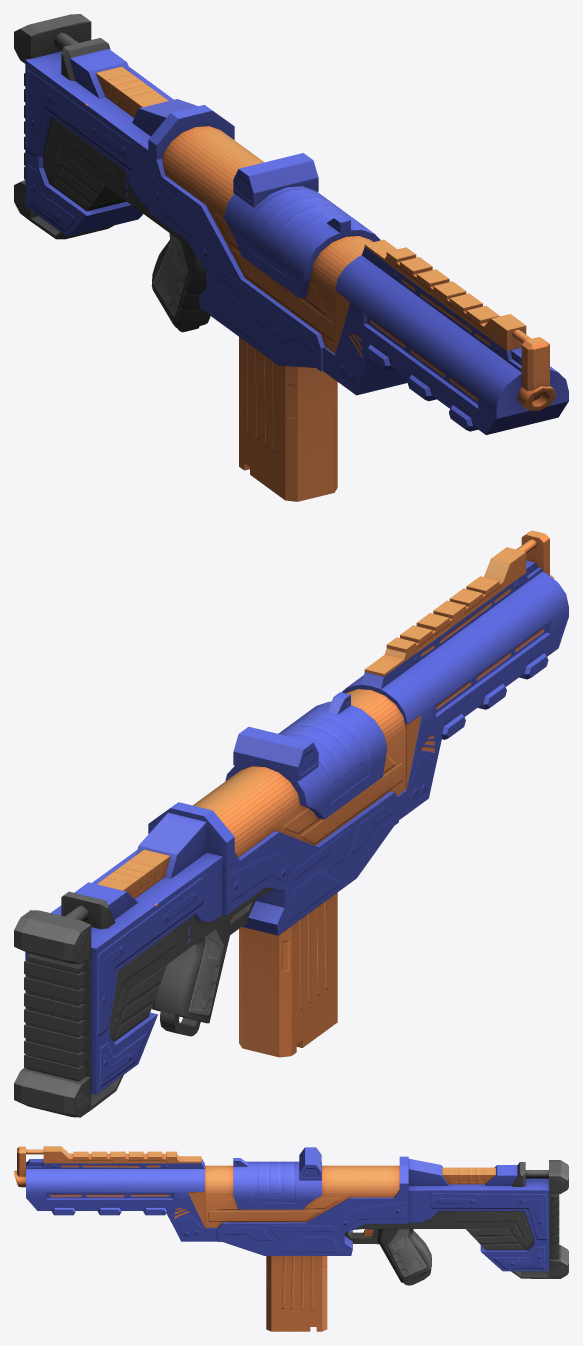
File: Nerf_gun_04.fbx
3 views of the same model, one above another, from view 1: azimuth 30°, elevation 25°; view 2: azimuth 150°, elevation 25°; view 3: azimuth 270°, elevation 25° (orthographic). The views are drawn at different scales.
Parts seen in each view (by area): view 1: gun, mag; view 2: gun, mag; view 3: gun, mag.
Boxes of the visible parts, x1=… form: gun: x1=14, y1=14, x2=568, y2=434; mag: x1=239, y1=337, x2=337, y2=501; gun: x1=14, y1=530, x2=568, y2=1117; mag: x1=239, y1=892, x2=337, y2=1057; gun: x1=14, y1=1146, x2=568, y2=1285; mag: x1=266, y1=1256, x2=327, y2=1331.
Bounding box in the file's own units: 0.4246 × 1.54 × 4.41.
Materials: 1 (1 with a texture image).
